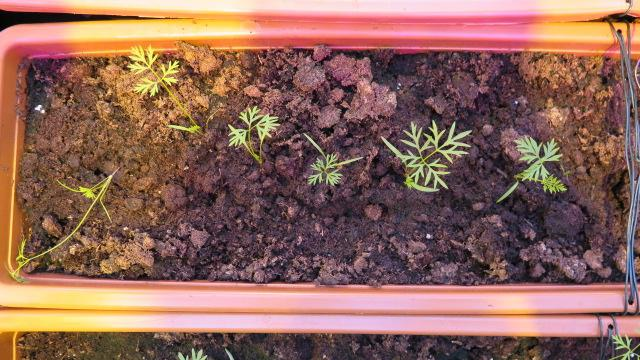crop: (118, 41, 207, 137), (377, 116, 477, 195), (491, 132, 573, 202), (217, 101, 283, 165), (299, 130, 370, 187)
